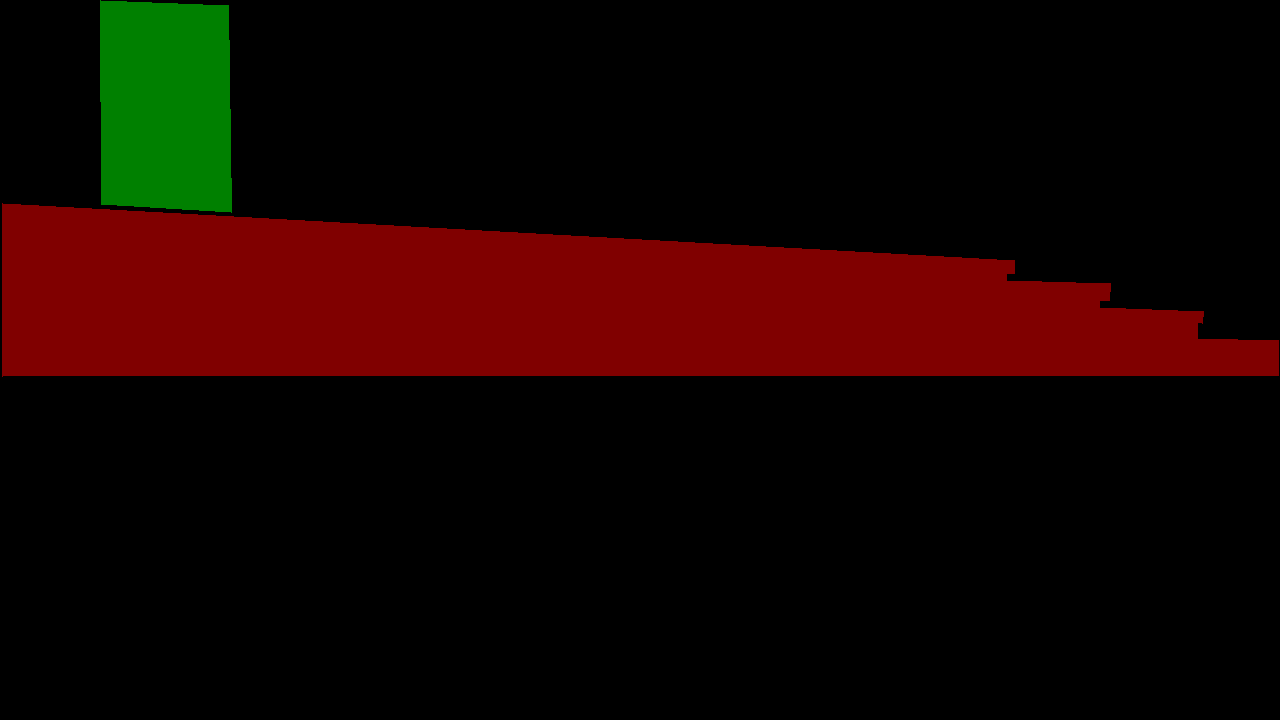door: (100, 0, 231, 212)
stair: (2, 203, 1278, 376)
